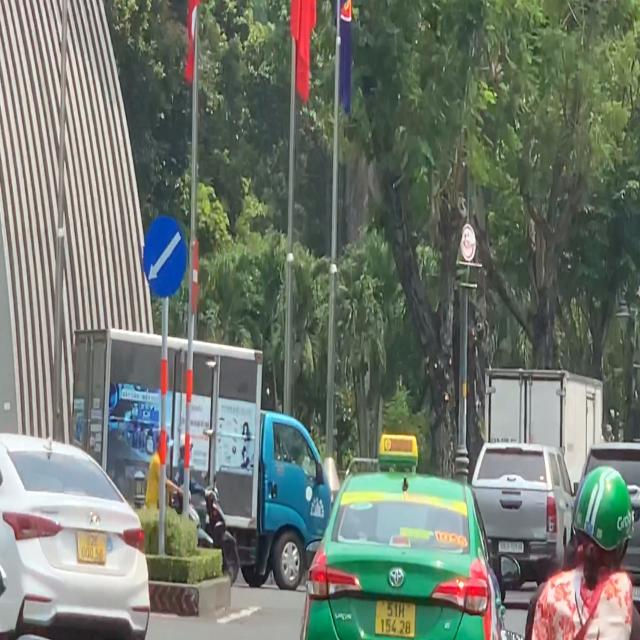Hieu lenh: (140, 216, 188, 300)
